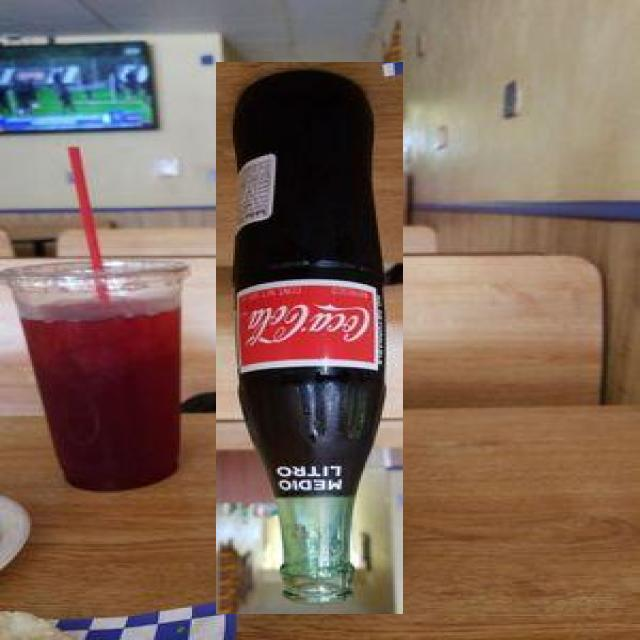coca-cola: (216, 62, 403, 614)
